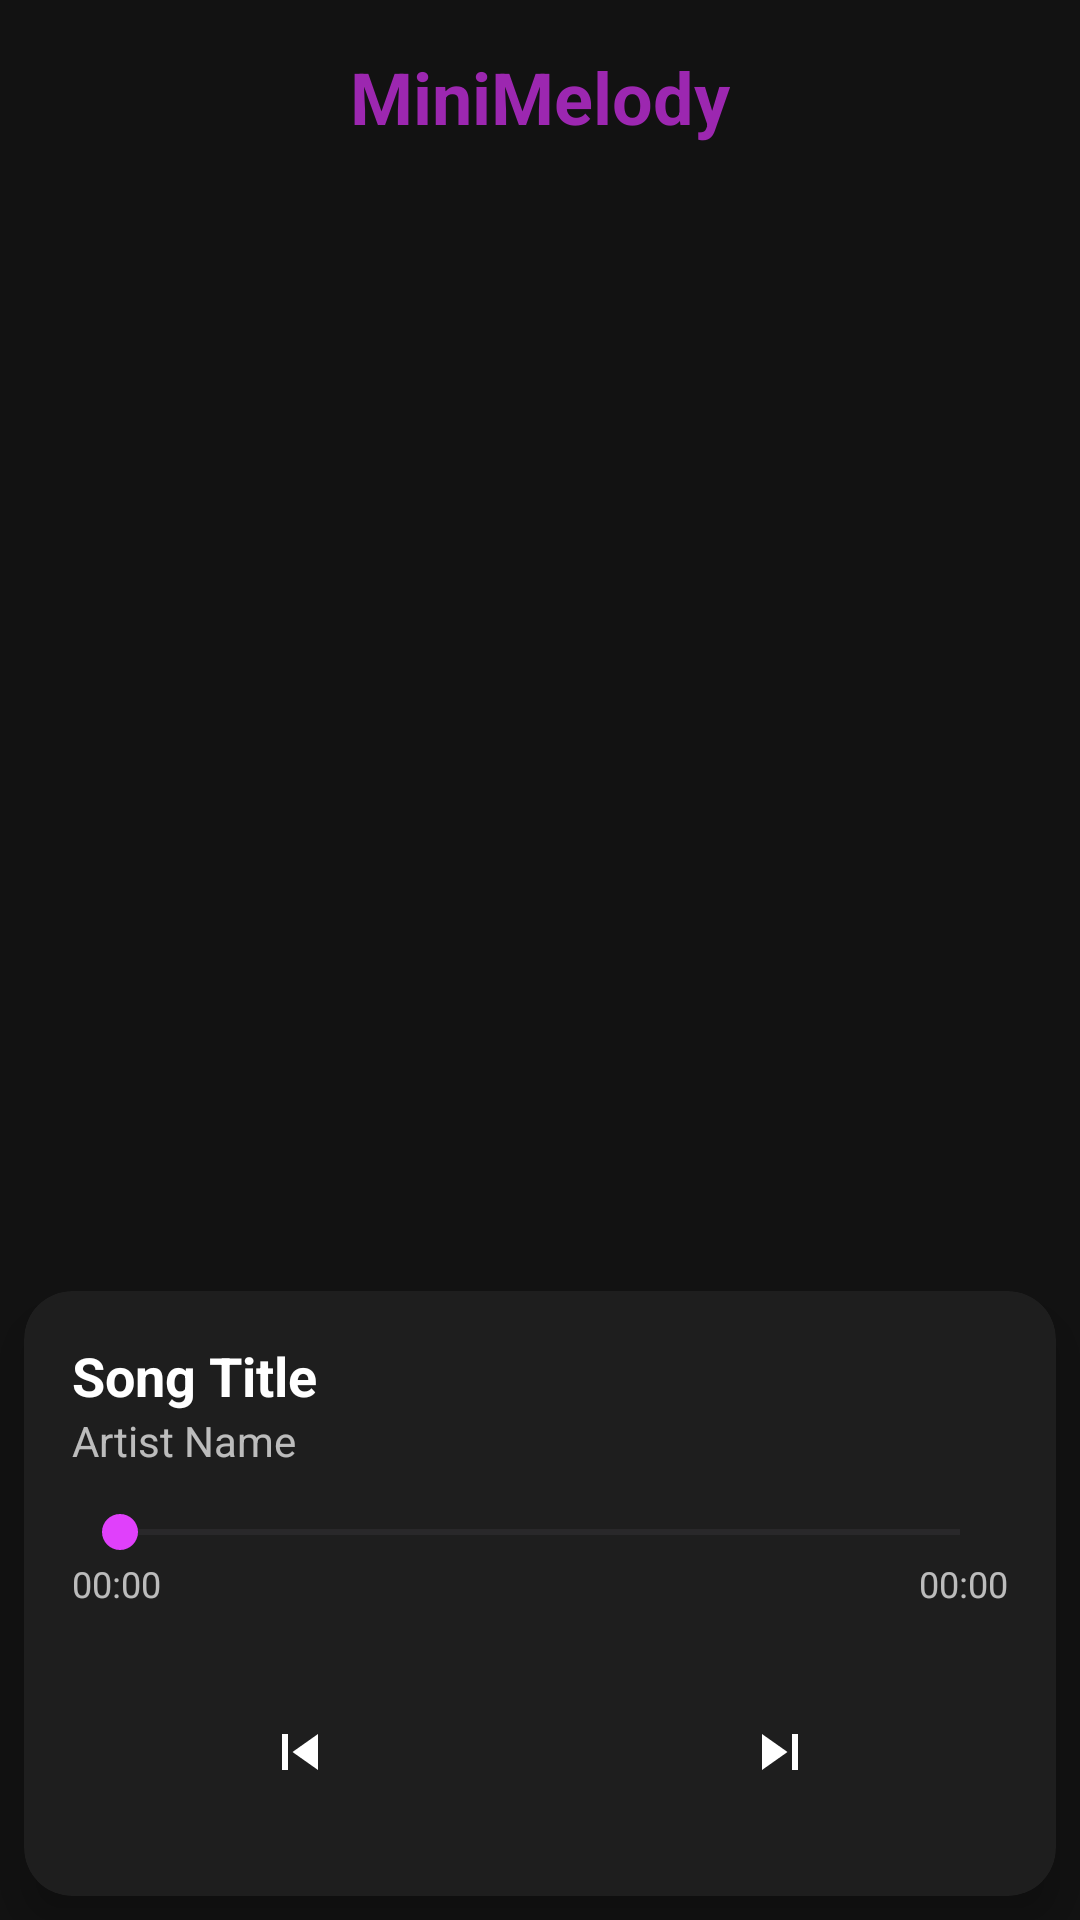

Screen size 1080*1920. Icon name, then its center in pixels as (x,y):
Next: (780,1752)
Previous: (300,1752)
